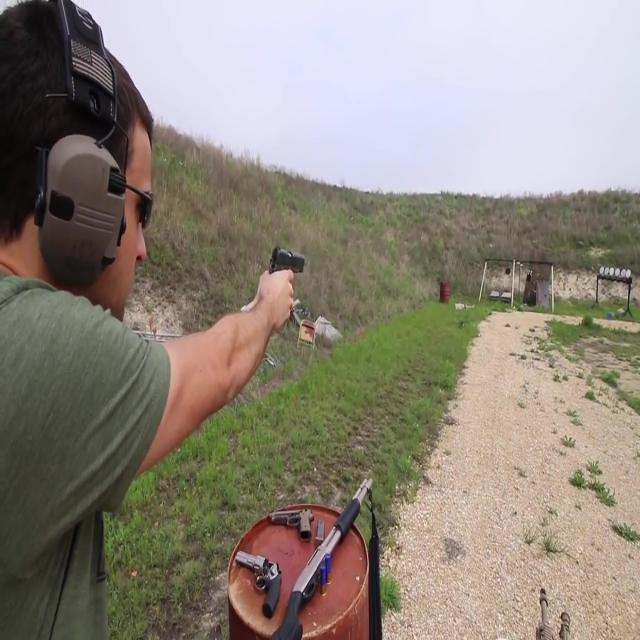Weapon: (214, 439, 402, 640), (250, 214, 323, 342)
